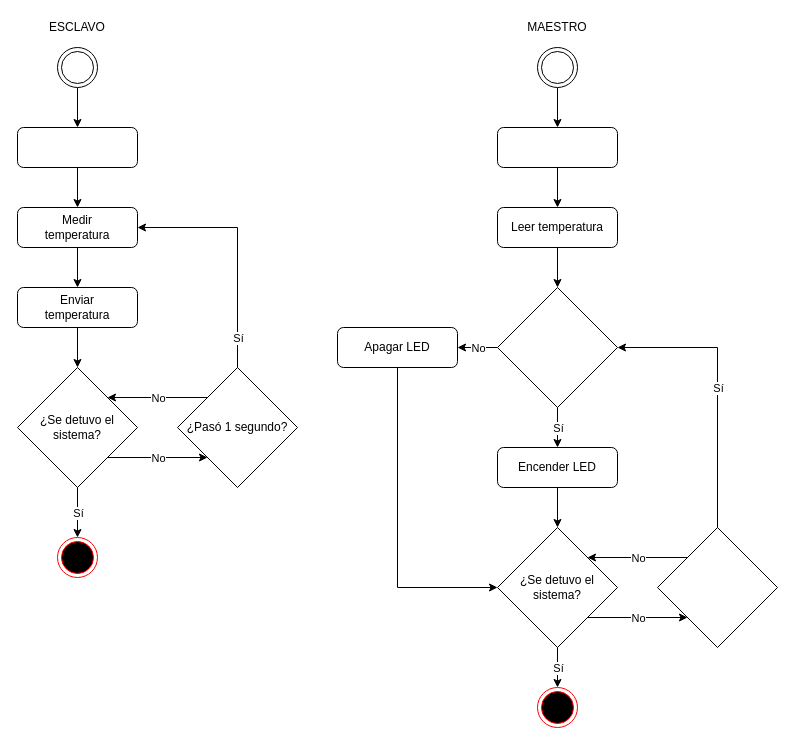
This 795x745 diagram has some shape labels left out. The box of each missing label's shape, as (x1, y1, x2, y2) in pixels:
Iniciar esclavo: (16, 126, 138, 168)
Iniciar maestro: (496, 126, 618, 168)
¿La temperatura supera los 30°C?: (496, 286, 618, 408)
¿Se actualizó la temperatura?: (656, 526, 778, 648)
